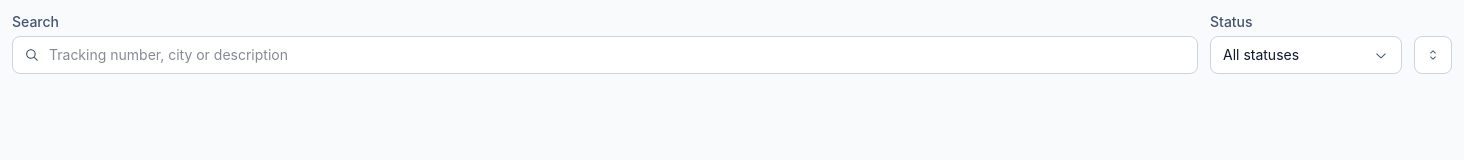
ShipmentsToolbar › replaces the URL once the typed text has settled, and never undoes typing
The width and height of the screenshot is (1464, 160).
Type "kyiv" into the search field labelled "Search". click: (605, 55)
box: [12,36,1198,74]
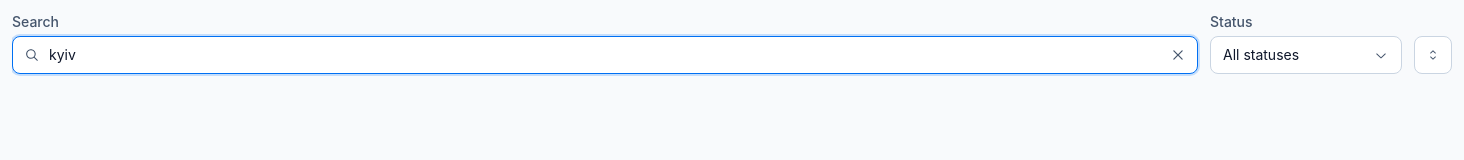
Type " hub" into the search field labelled "Search". click: (605, 55)
box: [12,36,1198,74]
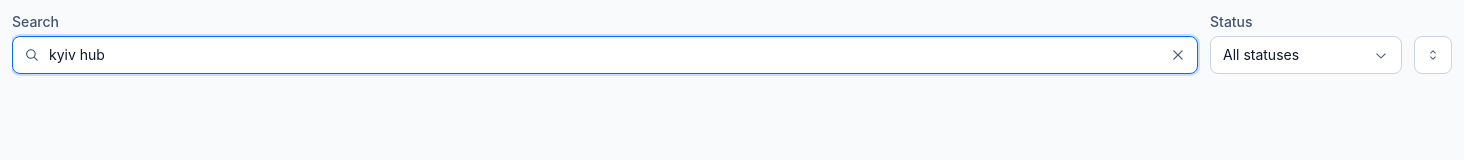
Result: the search field labelled "Search" holds "kyiv hub" at [12,36,1198,74]
